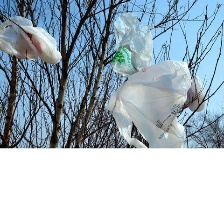plastic_bag: (102, 59, 193, 149), (0, 13, 63, 66), (109, 11, 155, 78), (173, 67, 211, 115)
